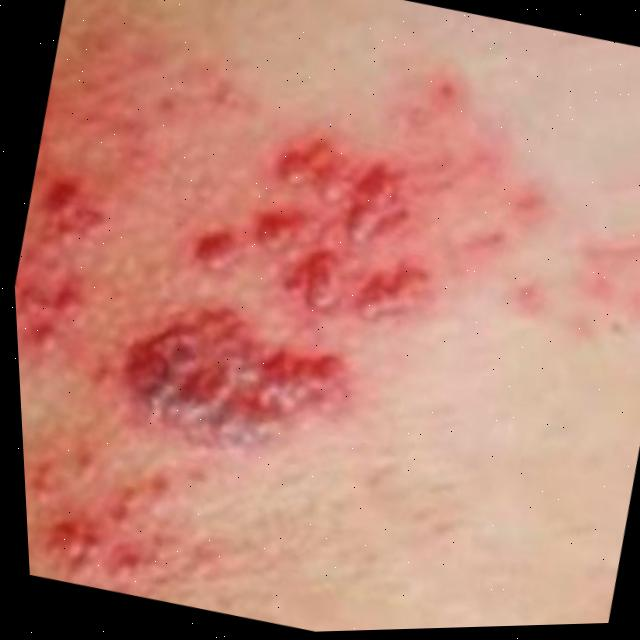Shingles: (4, 67, 478, 640)
